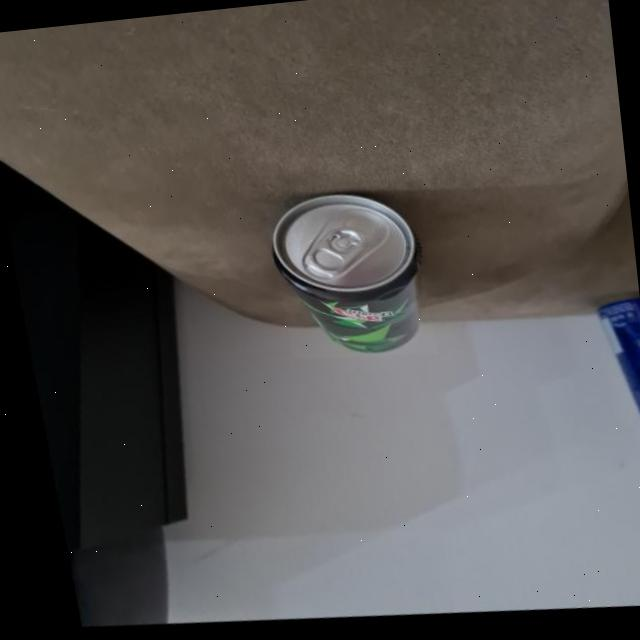trash: (262, 182, 430, 366)
